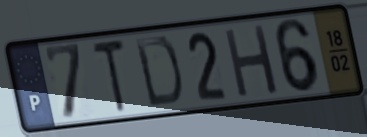2: (187, 30, 229, 103)
6: (272, 16, 322, 96)
7: (43, 40, 86, 122)
D: (132, 34, 185, 110)
H: (221, 22, 282, 102)
T: (89, 37, 130, 117)
